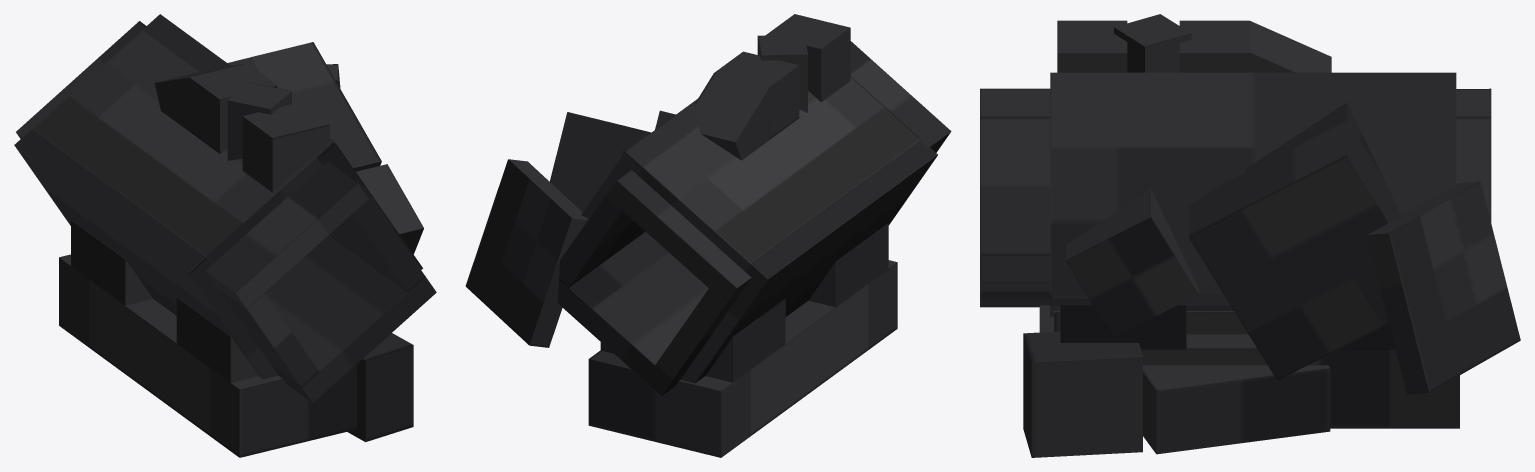
The model's file is aimpoint.obj.
3 renders of one model, left to right at view 1: azimuth 30°, elevation 25°; view 2: azimuth 150°, elevation 25°; view 3: azimuth 270°, elevation 25°, orthographic. The views are drawn at different scales.
Visible parts, largest first — view 1: gun_29; view 2: gun_29; view 3: gun_29.
Boxes of the visible parts, bbox=[...] form: gun_29: bbox=[14, 14, 436, 457]; gun_29: bbox=[465, 14, 951, 457]; gun_29: bbox=[980, 14, 1520, 457].
Bounding box in the file's own units: 0.3853 × 0.3641 × 0.4825.
